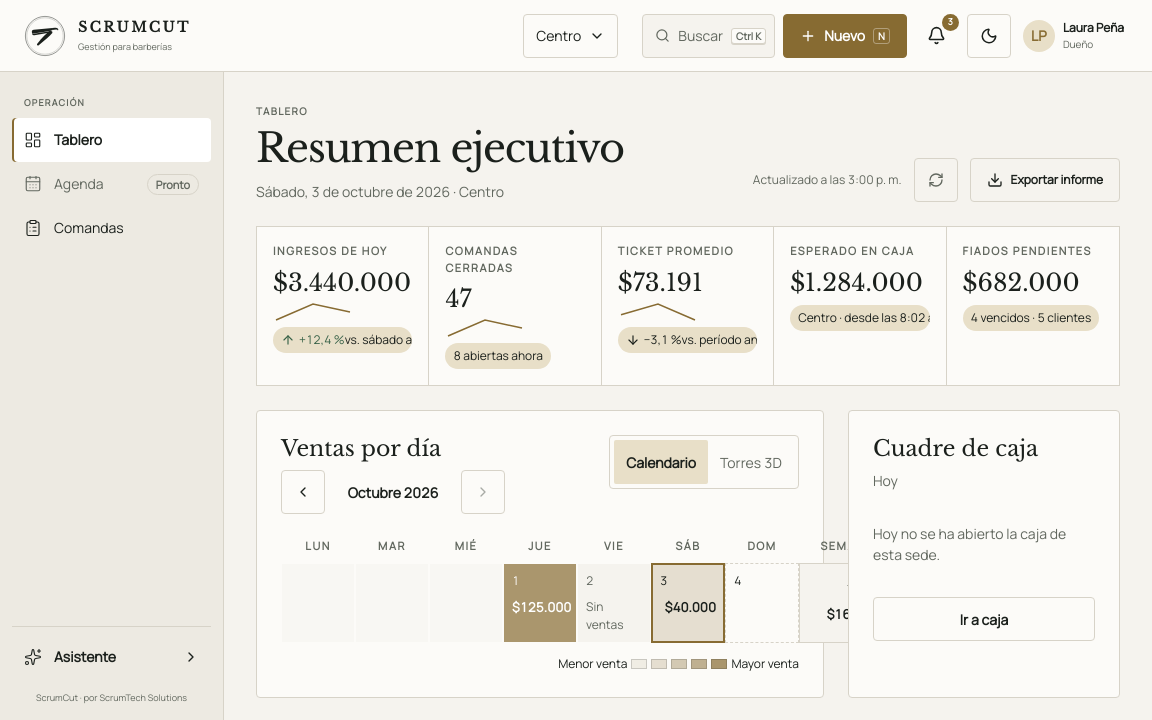
Test case: marco de la app › los cierres de sesión son formularios POST a Django con el token CSRF
Click the button with aria-label "Cuenta de Laura Peña": [1073, 36] box [1019,14,1128,58]
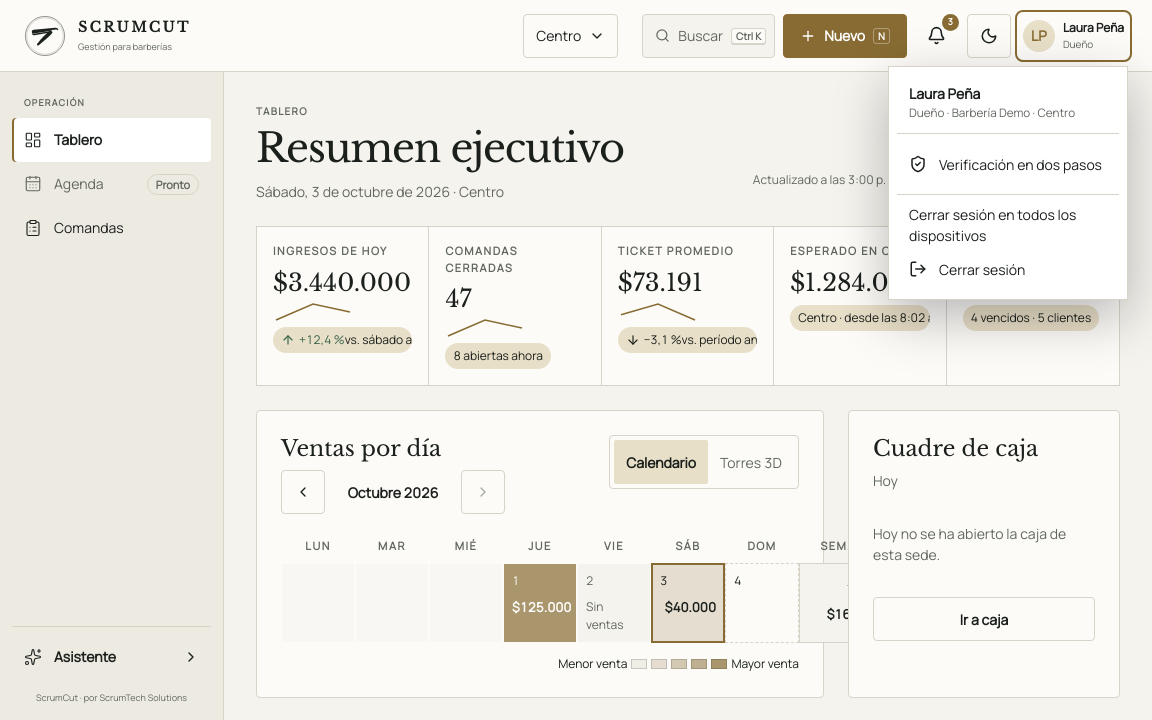
Now the button "Cerrar sesión" is enabled, box [897,247,1119,291]
Now the form named "csrfmiddlewaretoken" holds "token-de-prueba", box [897,247,1119,291]
